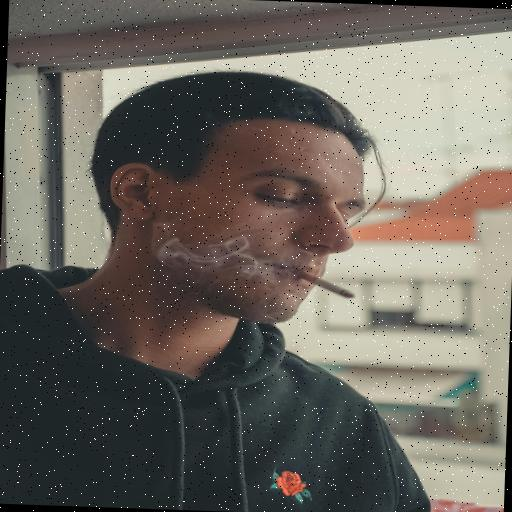terdeteksi merokok: (212, 144, 399, 330)
